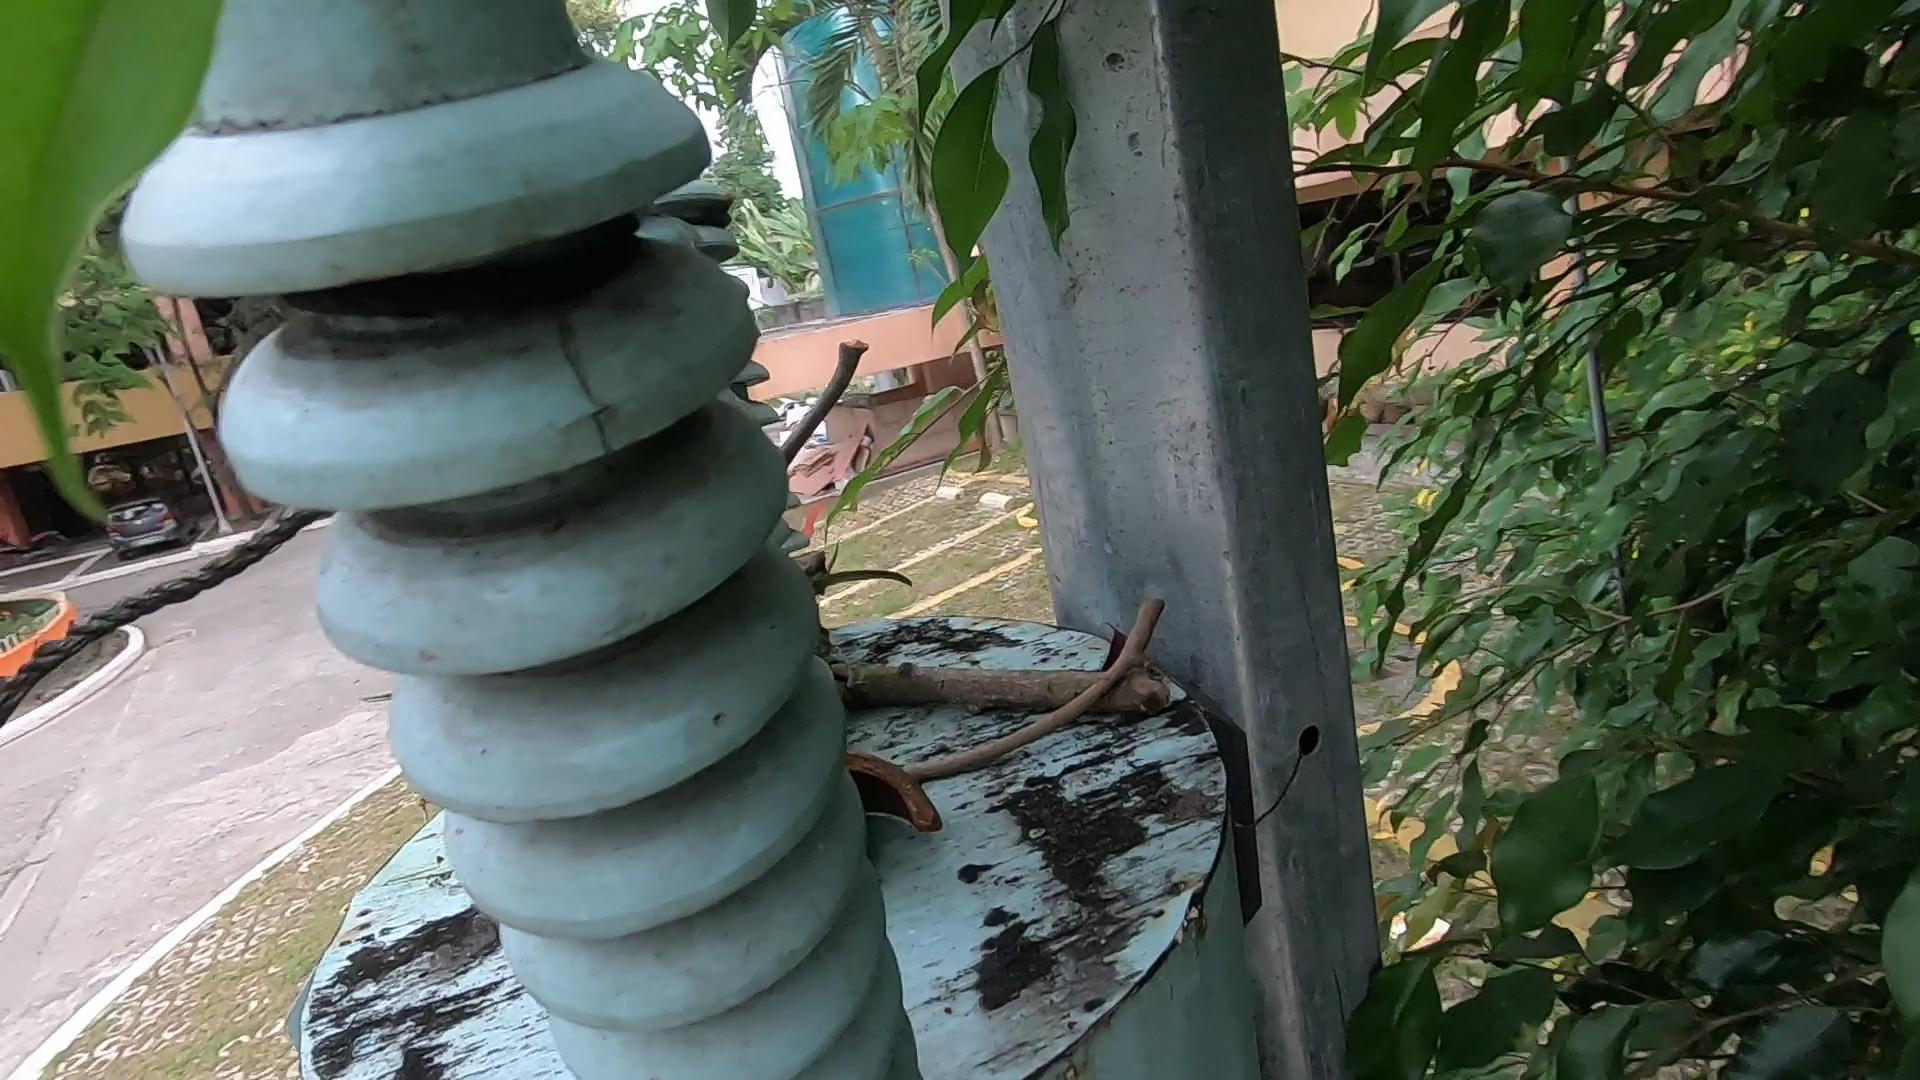mahogany fruit: (829, 711, 972, 873)
tree branch: (922, 584, 1174, 872), (829, 624, 1126, 756), (762, 290, 913, 542)
